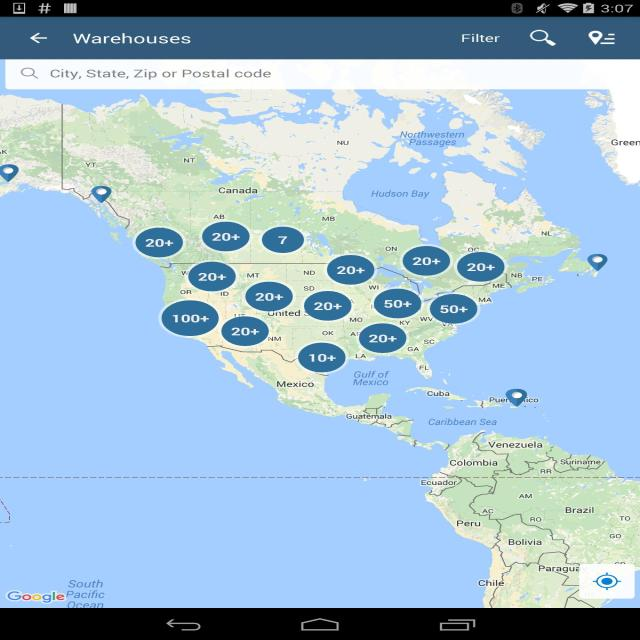button: (158, 298, 218, 338), (579, 564, 634, 599), (323, 253, 376, 285), (296, 341, 347, 374), (132, 227, 184, 259), (198, 220, 250, 252), (372, 288, 424, 320), (401, 244, 451, 277), (456, 251, 506, 283), (303, 290, 352, 322), (183, 262, 235, 292), (222, 314, 269, 347), (358, 323, 408, 354), (430, 292, 478, 324), (245, 281, 293, 312), (260, 225, 306, 254), (456, 30, 506, 48), (581, 29, 626, 49), (525, 27, 561, 49), (29, 24, 52, 50), (504, 387, 529, 408), (583, 253, 610, 272), (0, 162, 21, 186), (90, 184, 114, 204), (16, 66, 43, 82)
field: (6, 60, 632, 89)
heading: (70, 30, 192, 49)
image: (1, 59, 640, 608)
label: (47, 66, 272, 81)
